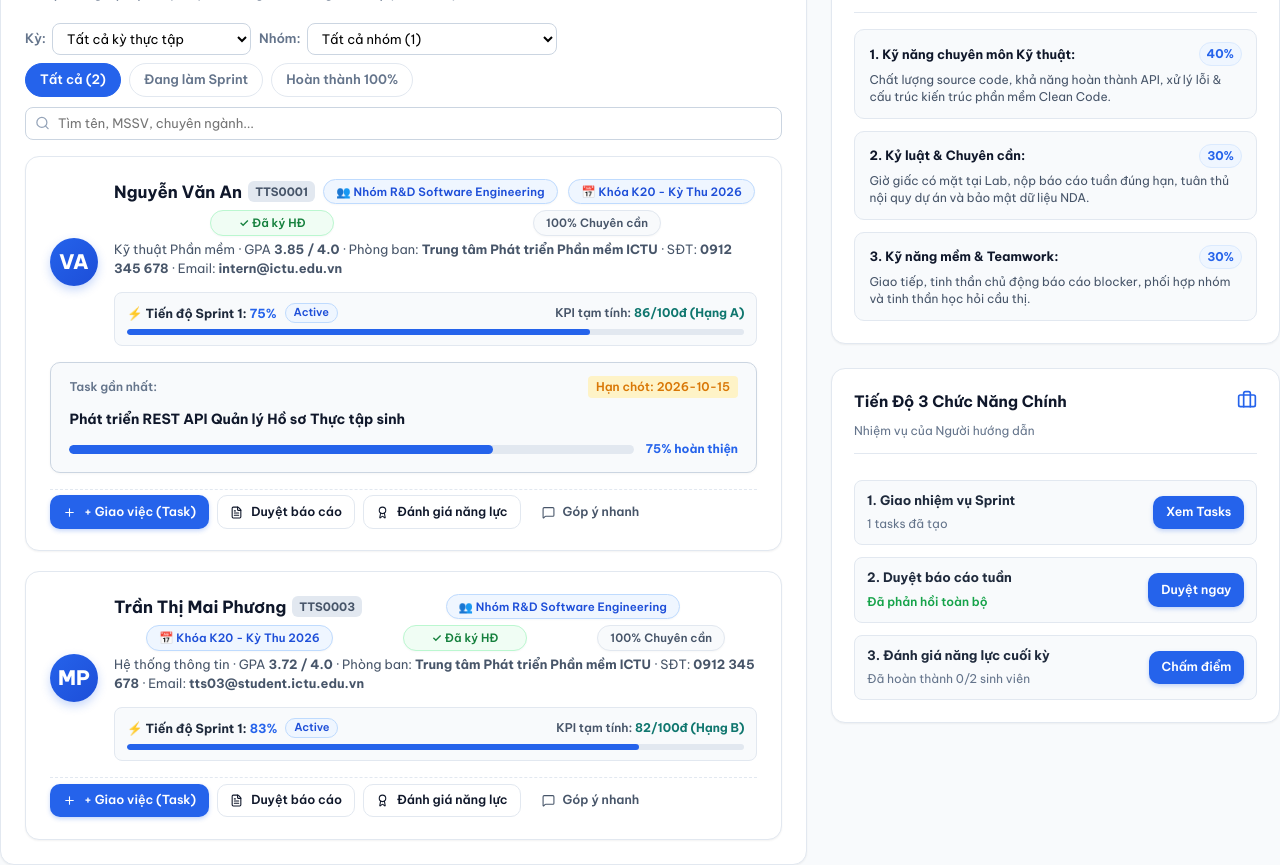
it: MentorDashboardPage Task Binding & Border Test Suite › TTS chưa có task (Trần Thị Mai Phương) KHÔNG hiển thị khung task và có nút Giao việc
The image size is (1280, 865).
(page scrolled)
Expected: the heading "Trần Thị Mai Phương" is shown, [114,594,286,619]
# Mở modal giao việc cho Trần Thị Mai Phương
Click the button "+ Giao việc (Task)" below "83" at (130, 800), box [50,784,209,817]
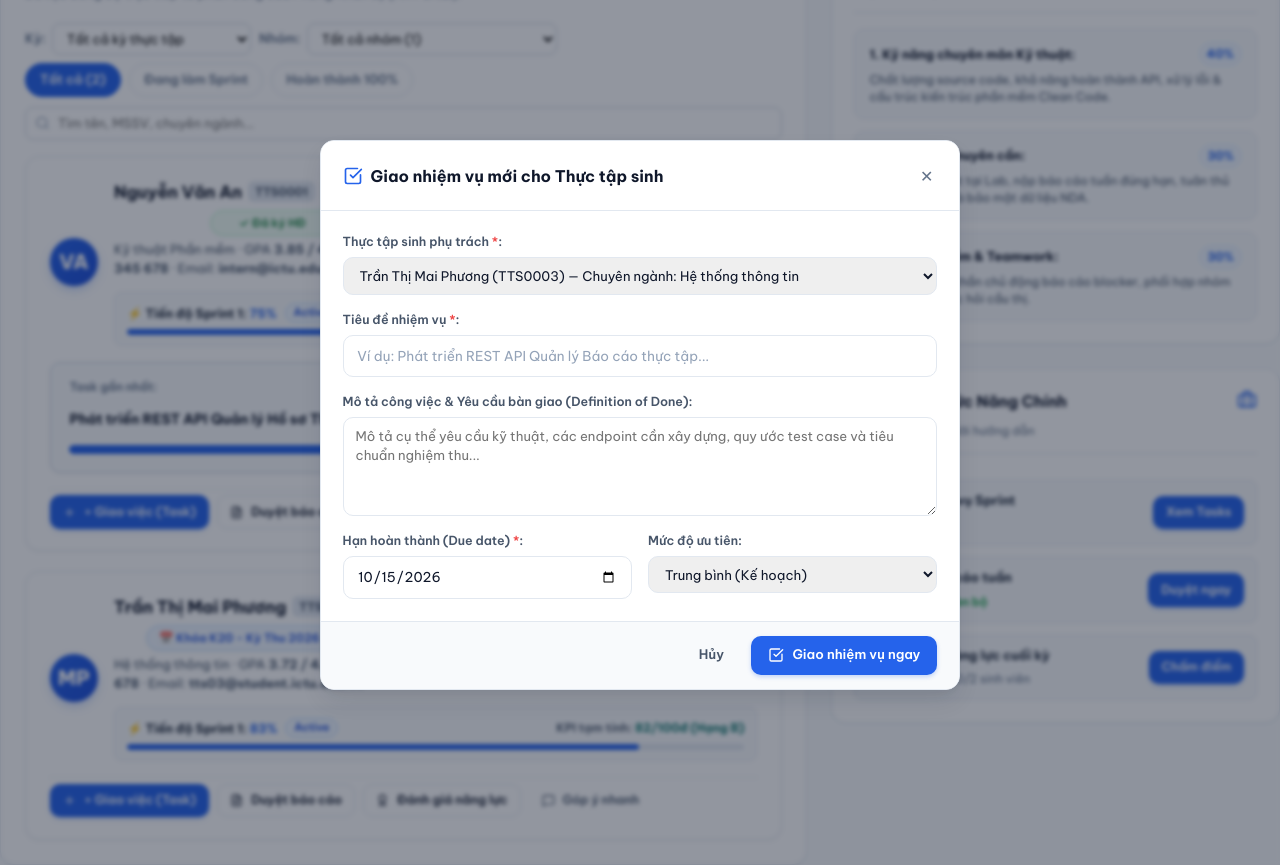
Result: the heading "Giao nhiệm vụ mới cho Thực tập sinh" is shown at [371,164,663,188]
